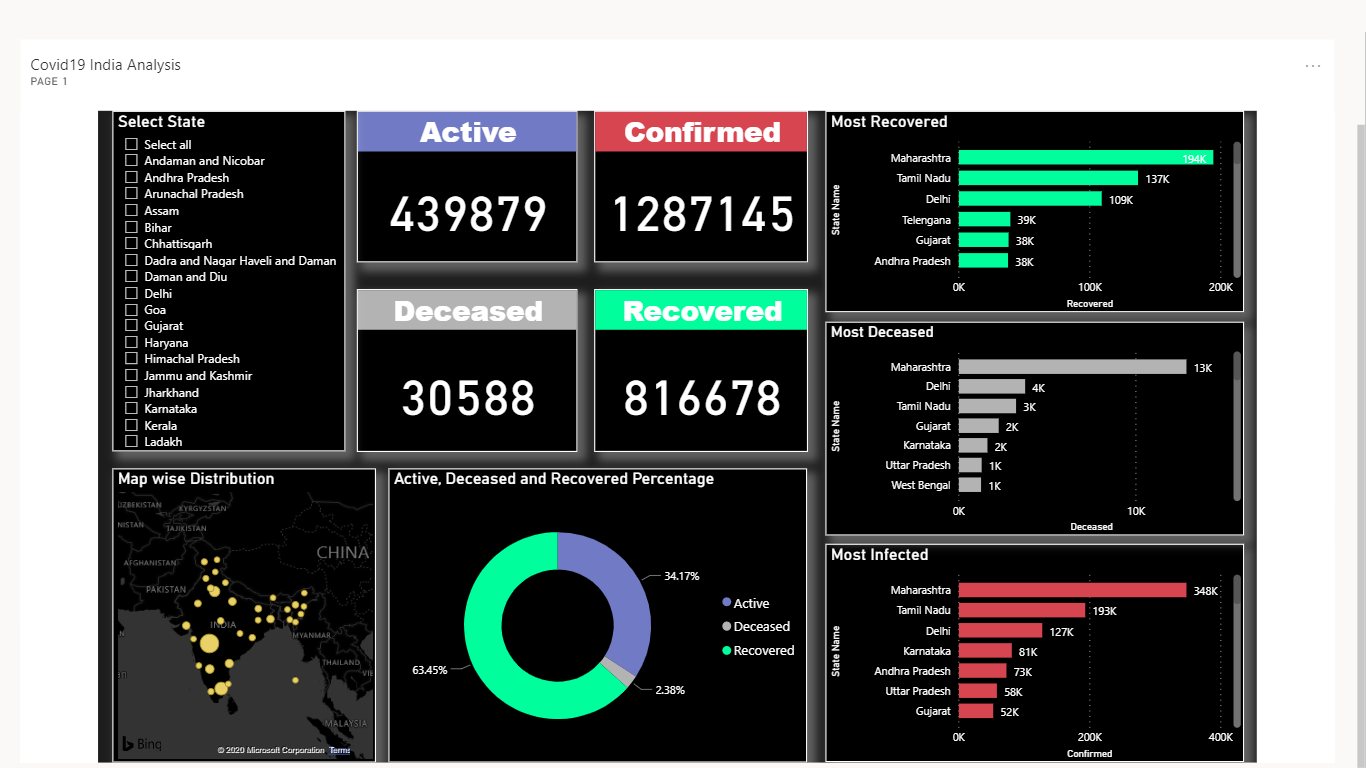

The page's visual inventory and layout, read from the dashboard file:
{"tool":"powerbi","page":{"name":"Page 1","canvas":[1280,720],"ordinal":0},"visuals":[{"type":"card","title":"Active","fields":{"Values":["Sum(Corona Update.Active)"]},"box":[285.6,0,243.6,168],"z":0},{"type":"card","title":"Recovered","fields":{"Values":["Sum(Corona Update.Recovered)"]},"box":[547.6,196.5,236.9,179.7],"z":1000},{"type":"card","title":"Deceased","fields":{"Values":["Sum(Corona Update.Deceased)"]},"box":[285.6,196.5,243.6,179.7],"z":2000},{"type":"card","title":"Confirmed","fields":{"Values":["Sum(Corona Update.Confirmed)"]},"box":[547.6,0,236.9,168],"z":3000},{"type":"slicer","title":"Select State","fields":{"Values":["Corona Update.States"]},"box":[15.6,0,257.4,376.3],"z":4000},{"type":"map","title":"Map wise Distribution","fields":{"Category":["Corona Update.States"],"Size":["Sum(Corona Update.Confirmed)"]},"box":[15.8,395.2,291.7,324.8],"z":5000},{"type":"donutChart","title":"Active, Deceased and Recovered Percentage","fields":{"Y":["Sum(Corona Update.Active)","Sum(Corona Update.Deceased)","Sum(Corona Update.Recovered)"]},"box":[321.1,394.7,462.6,325.3],"z":6000},{"type":"barChart","title":"Most Infected","fields":{"Category":["Corona Update.States"],"Y":["Sum(Corona Update.Confirmed)"]},"box":[803.4,478.6,462.8,241.4],"z":7000},{"type":"barChart","title":"Most  Recovered","fields":{"Category":["Corona Update.States"],"Y":["Sum(Corona Update.Recovered)"]},"box":[803.4,0,462.8,222.8],"z":8000},{"type":"barChart","title":"Most Deceased","fields":{"Category":["Corona Update.States"],"Y":["Sum(Corona Update.Deceased)"]},"box":[803.4,232.8,462.8,235.7],"z":9000}]}

Visuals, with their boxes on the page's 1280x720 design canvas (x1, y1, x2, y2). These are canvas units, not pixel positions in the 1366x768 screenshot, which may show the page scaled, cropped or inside an application window:
"Active" card: x1=286, y1=0, x2=529, y2=168
"Recovered" card: x1=548, y1=196, x2=784, y2=376
"Deceased" card: x1=286, y1=196, x2=529, y2=376
"Confirmed" card: x1=548, y1=0, x2=784, y2=168
"Select State" slicer: x1=16, y1=0, x2=273, y2=376
"Map wise Distribution" map: x1=16, y1=395, x2=308, y2=720
"Active, Deceased and Recovered Percentage" donutChart: x1=321, y1=395, x2=784, y2=720
"Most Infected" barChart: x1=803, y1=479, x2=1266, y2=720
"Most  Recovered" barChart: x1=803, y1=0, x2=1266, y2=223
"Most Deceased" barChart: x1=803, y1=233, x2=1266, y2=468
